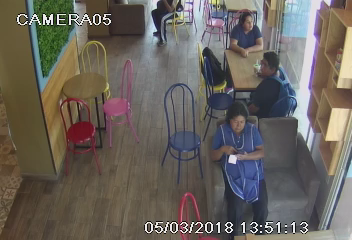libre: (46, 42, 137, 151)
ocupado: (206, 15, 289, 104)
